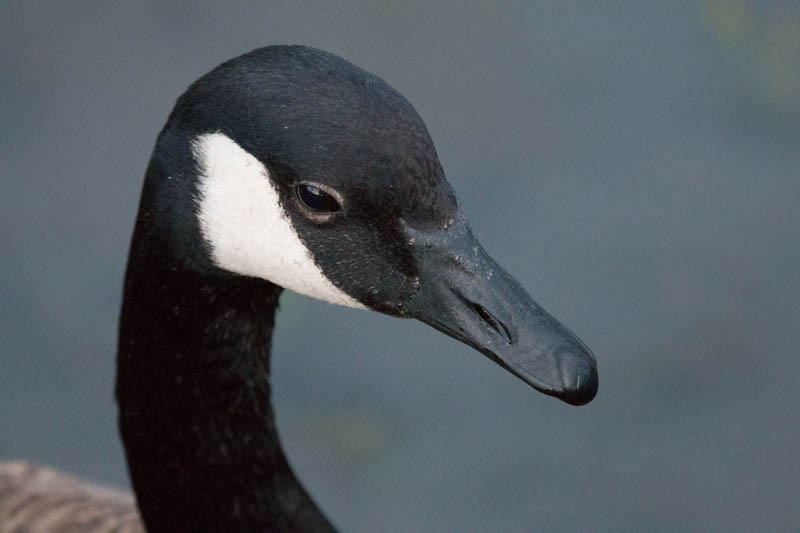goose-head: (133, 45, 599, 407)
